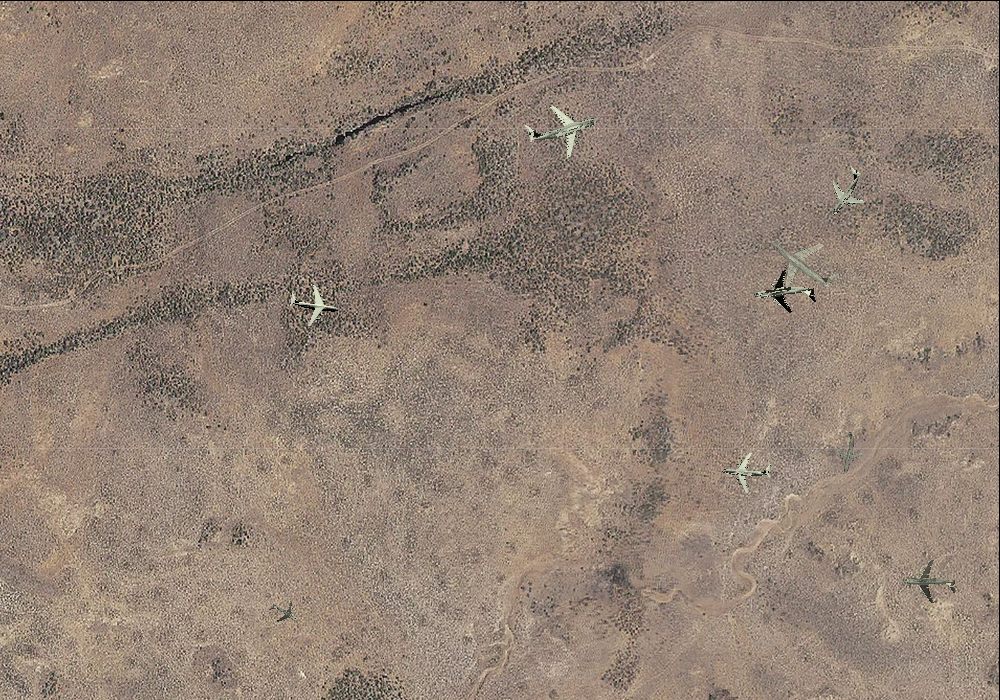plane: (753, 214, 853, 313), (517, 85, 607, 170), (812, 158, 879, 225), (750, 263, 819, 325), (285, 277, 341, 331), (720, 446, 773, 496), (903, 558, 956, 608), (825, 426, 870, 477), (263, 593, 305, 634)
